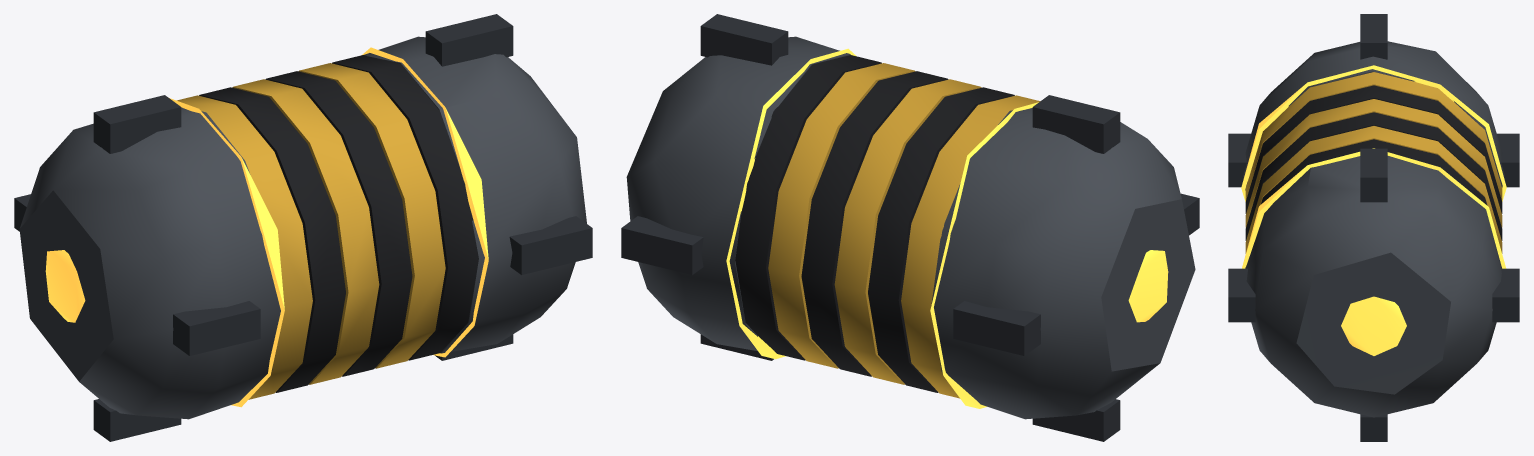
The model's file is opr_prj_breach_canister_a.glb.
3 views of the same model, side by side, from view 1: azimuth 30°, elevation 25°; view 2: azimuth 150°, elevation 25°; view 3: azimuth 270°, elevation 25° (orthographic). The views are drawn at different scales.
Parts seen in each view (by area): view 1: mesh_intact; view 2: mesh_intact; view 3: mesh_intact.
Part boxes in pixels (x1,y1,x2,y2): mesh_intact: [14, 14, 592, 441]; mesh_intact: [621, 14, 1199, 441]; mesh_intact: [1228, 14, 1519, 441].
Size of the model in its own units: 0.2044 by 0.128 by 0.128.
